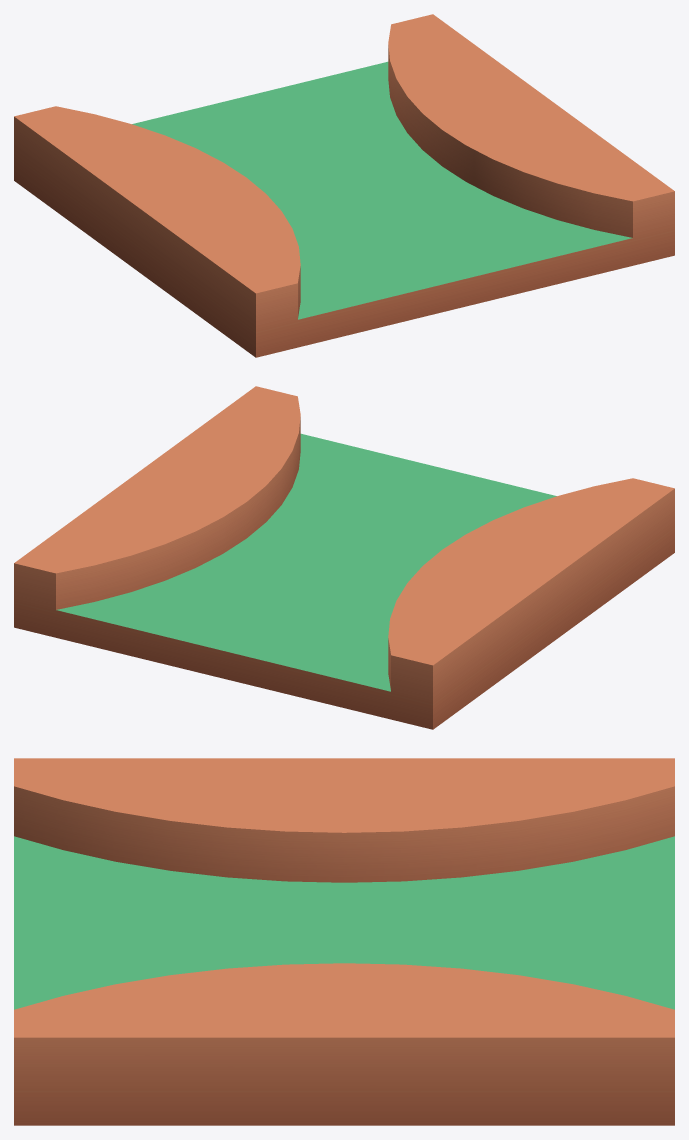
File: narrow-round.glb
3 views of the same model, one above another, from view 1: azimuth 30°, elevation 25°; view 2: azimuth 150°, elevation 25°; view 3: azimuth 270°, elevation 25° (orthographic). The views are drawn at different scales.
Parts seen in each view (by area): view 1: narrow-round; view 2: narrow-round; view 3: narrow-round.
Part boxes in pixels (box(x1,y1,x2,y2)): narrow-round: box(14, 14, 674, 357); narrow-round: box(14, 386, 674, 729); narrow-round: box(14, 758, 674, 1125).
Bounding box in the file's own units: 0.9999 × 0.1467 × 0.9999.
1 material, 1 textured.
